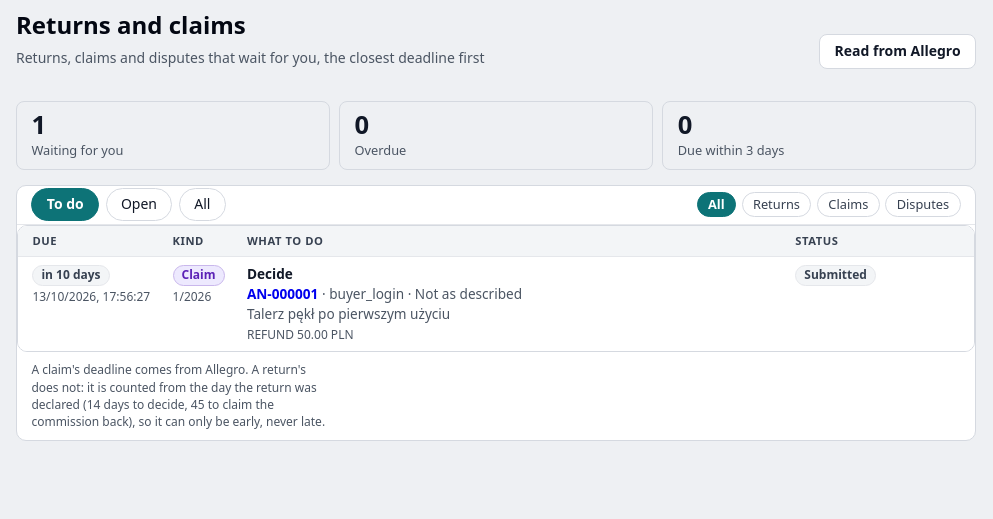
AfterSalesPage › shows why reading from Allegro failed
expect the link "AN-000001" is shown: met, box [247,284,318,303]
Step 1. Click the button "Read from Allegro" → x=898, y=51, box [819,34,976,69]
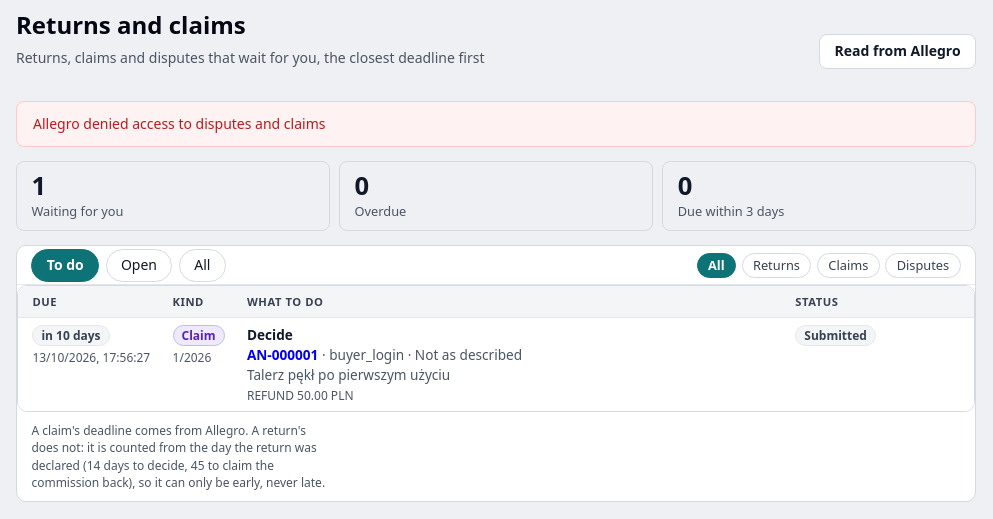
expect the message reads "Allegro denied access to disputes and claims": met, box [33,114,326,133]
